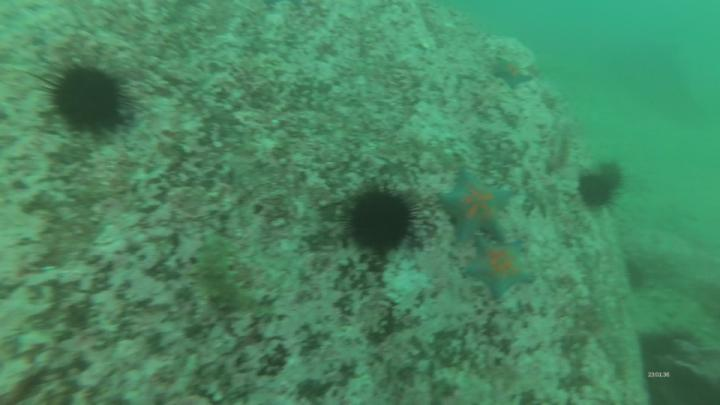echinus: (53, 70, 122, 133), (354, 189, 412, 249), (578, 177, 613, 206), (603, 164, 624, 192)
holothurian: (199, 240, 244, 311)
starfish: (443, 173, 511, 241), (468, 244, 532, 292), (495, 60, 533, 88)
